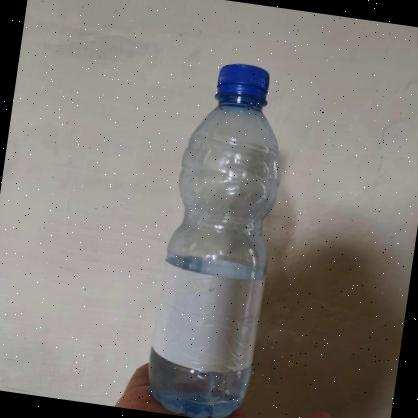bottle: (139, 54, 299, 418)
cap: (214, 60, 275, 104)
label: (146, 255, 268, 374)
